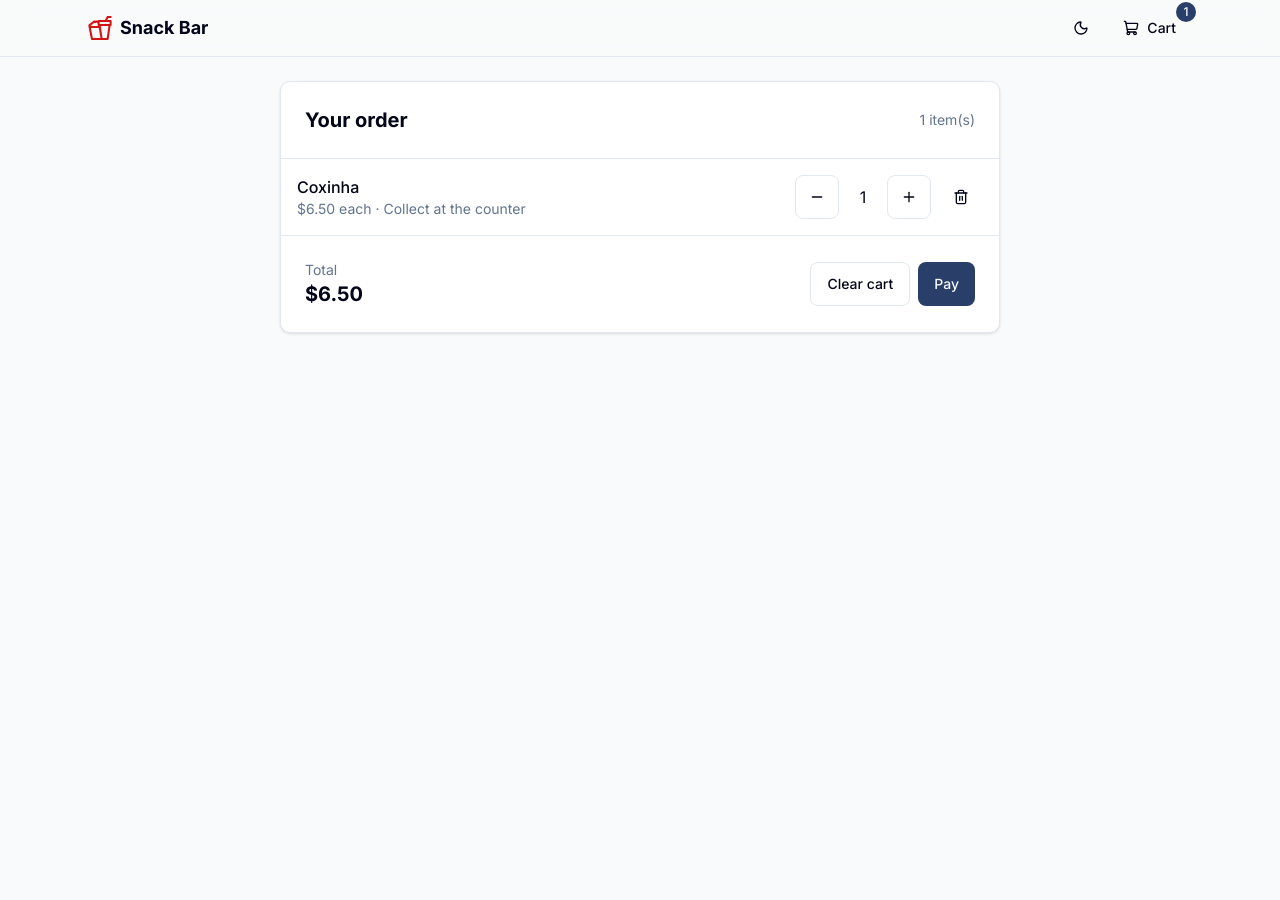
Test case: CartScreen cancel flow › keeps the order when the dialog is dismissed
What coordinates should you click on to do the following:
click the button "Clear cart"
I would click on:
 (860, 284)
Its box is left=810, top=262, right=910, bottom=306.
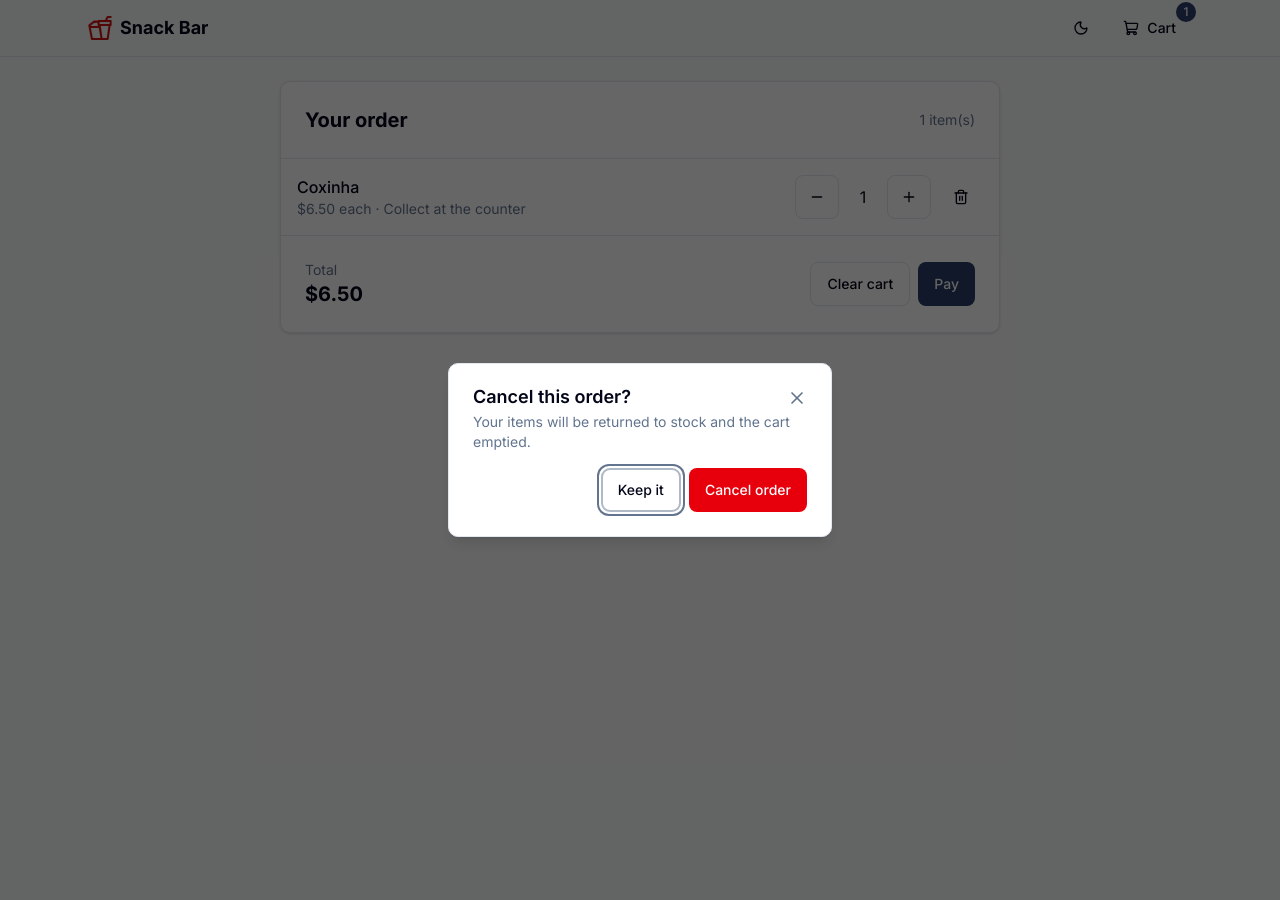
What coordinates should you click on to do the following:
click the button "Keep it"
I would click on:
 (641, 490)
Its box is left=601, top=468, right=681, bottom=512.
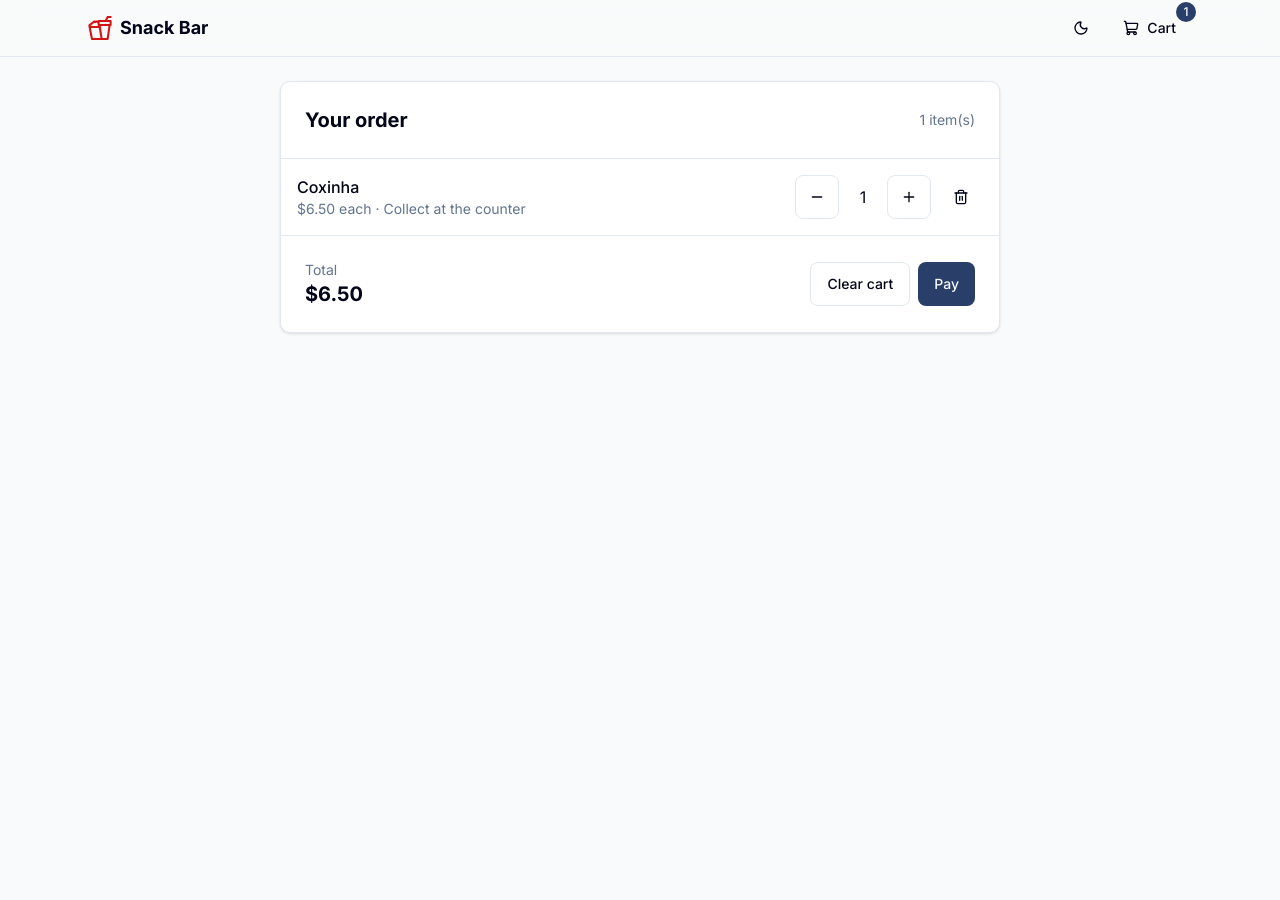
Expected: the text "Coxinha" is shown, left=297, top=177, right=359, bottom=197
Expected: the dialog is gone
